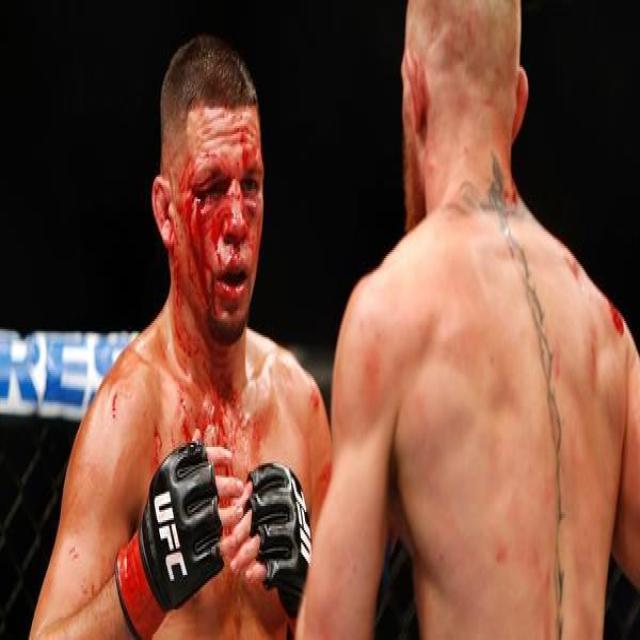flood: (172, 121, 270, 497)
